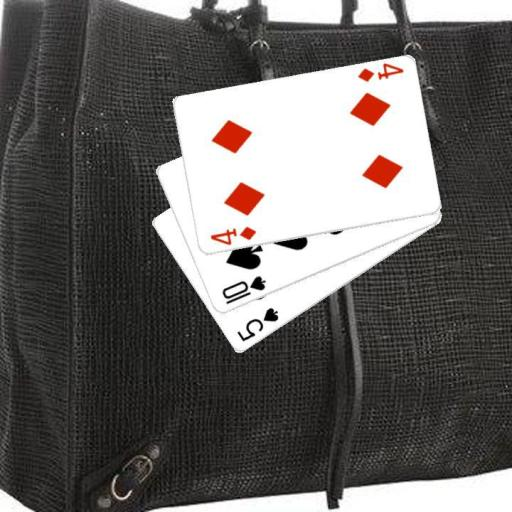10S: (219, 273, 268, 307)
4D: (207, 223, 257, 247), (354, 61, 405, 84)
5S: (234, 305, 280, 344)
